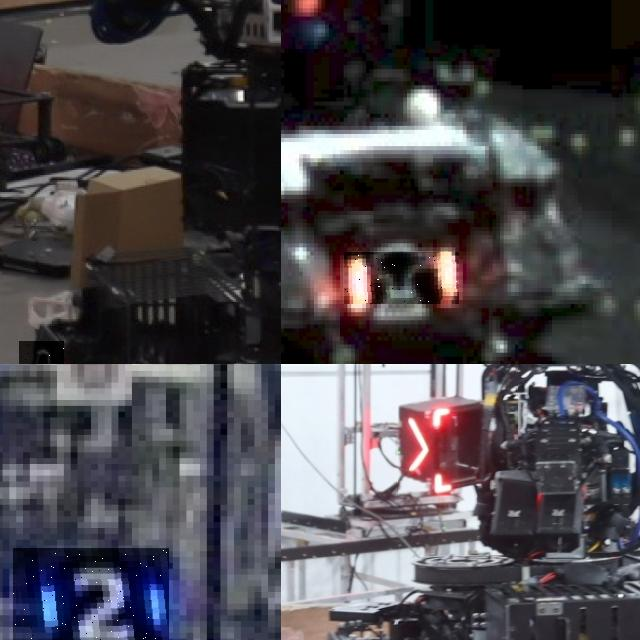B2: (12, 548, 169, 640)
Rs: (344, 252, 459, 304), (19, 340, 63, 364)
